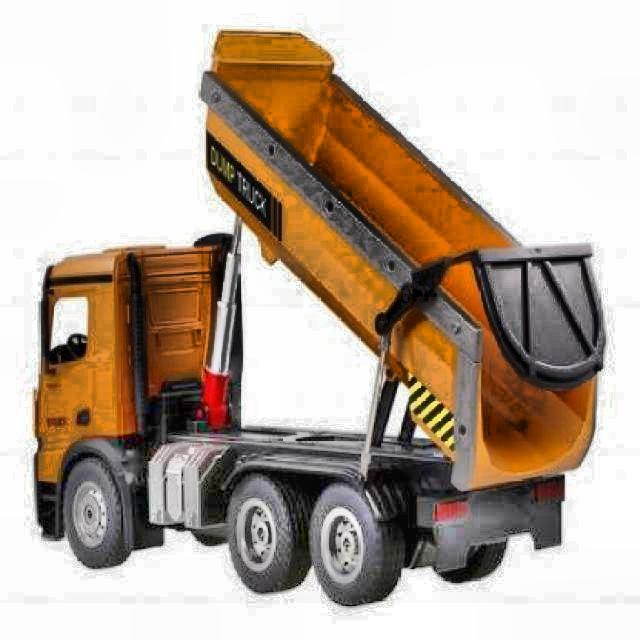dump_truck: (23, 4, 611, 624)
